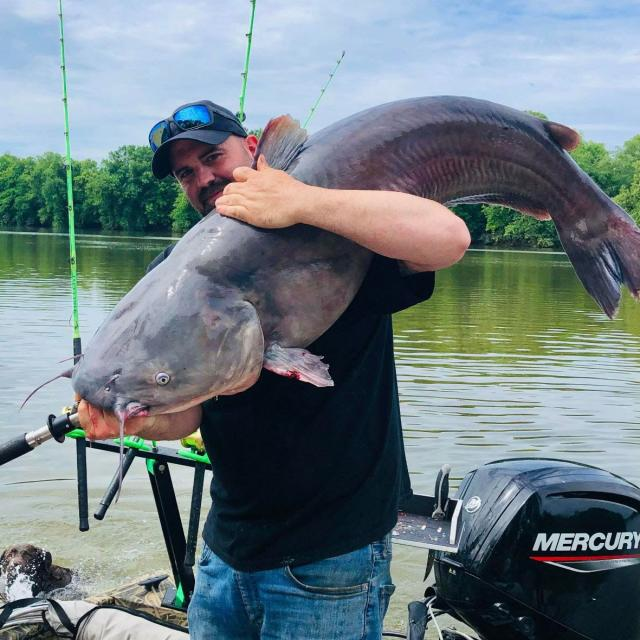Catfish - Blue: (260, 96, 639, 317), (66, 212, 373, 419)
